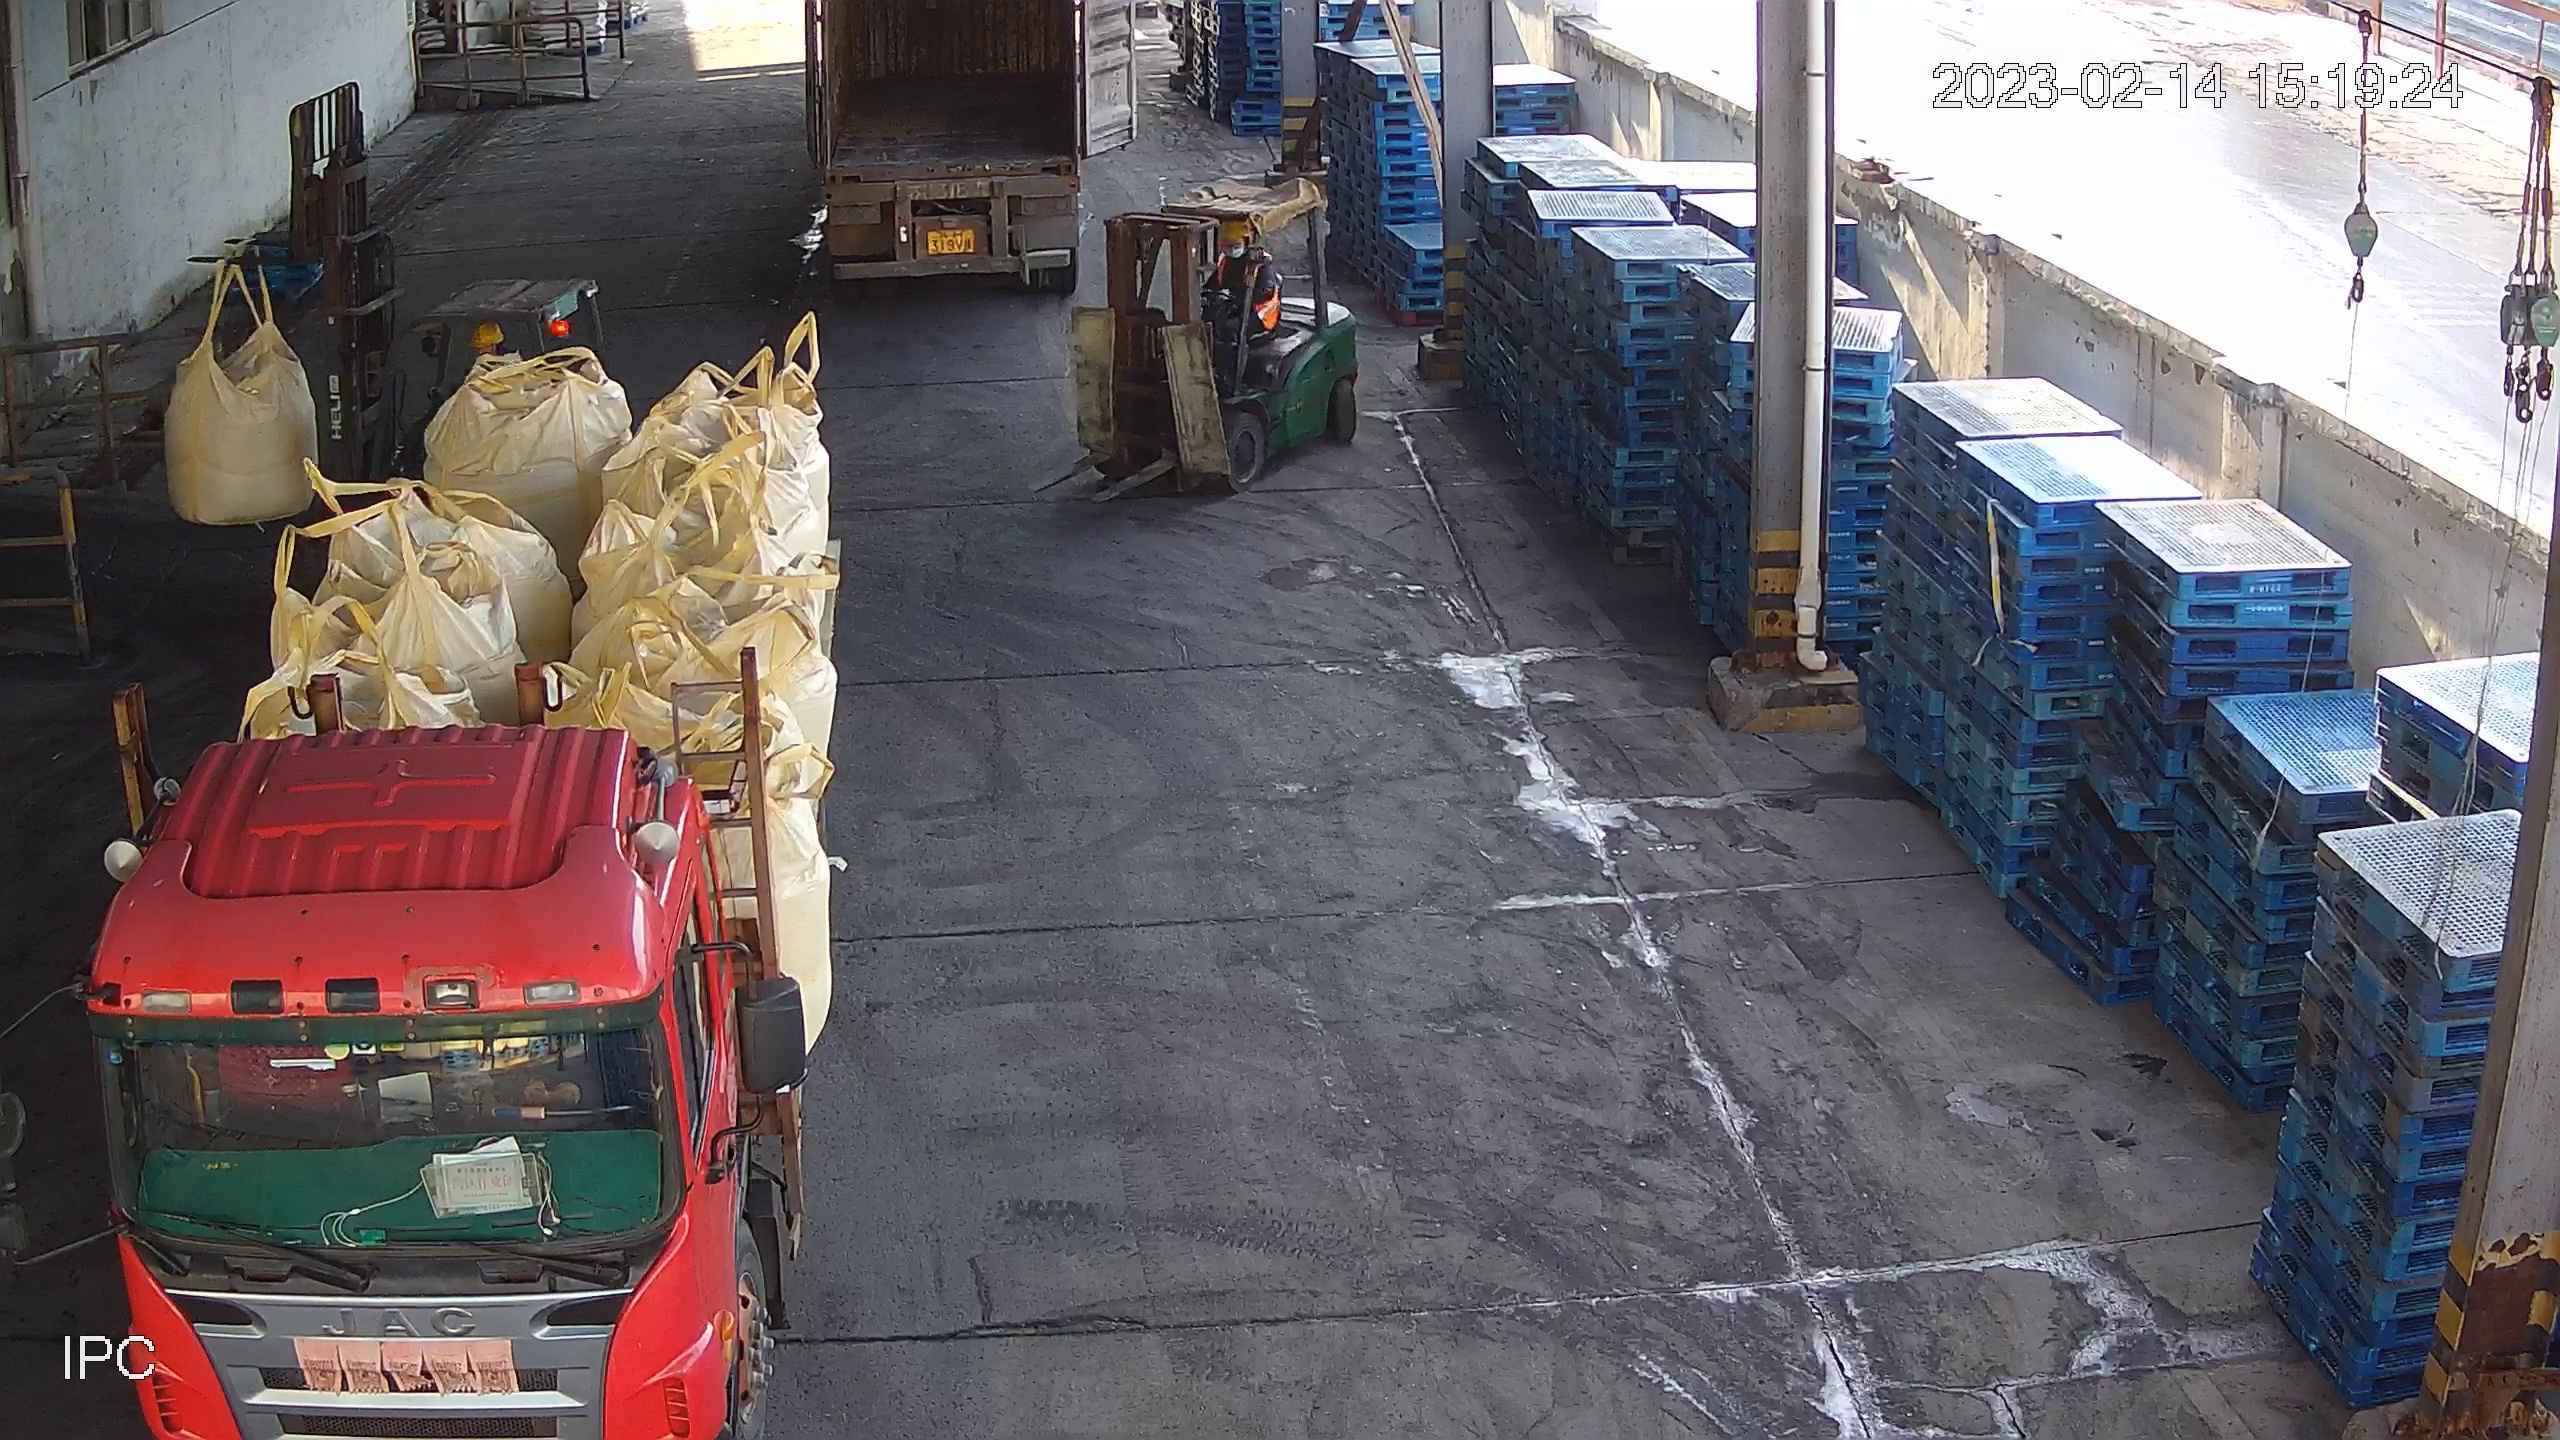truck: (70, 294, 818, 1440), (798, 2, 1101, 318)
